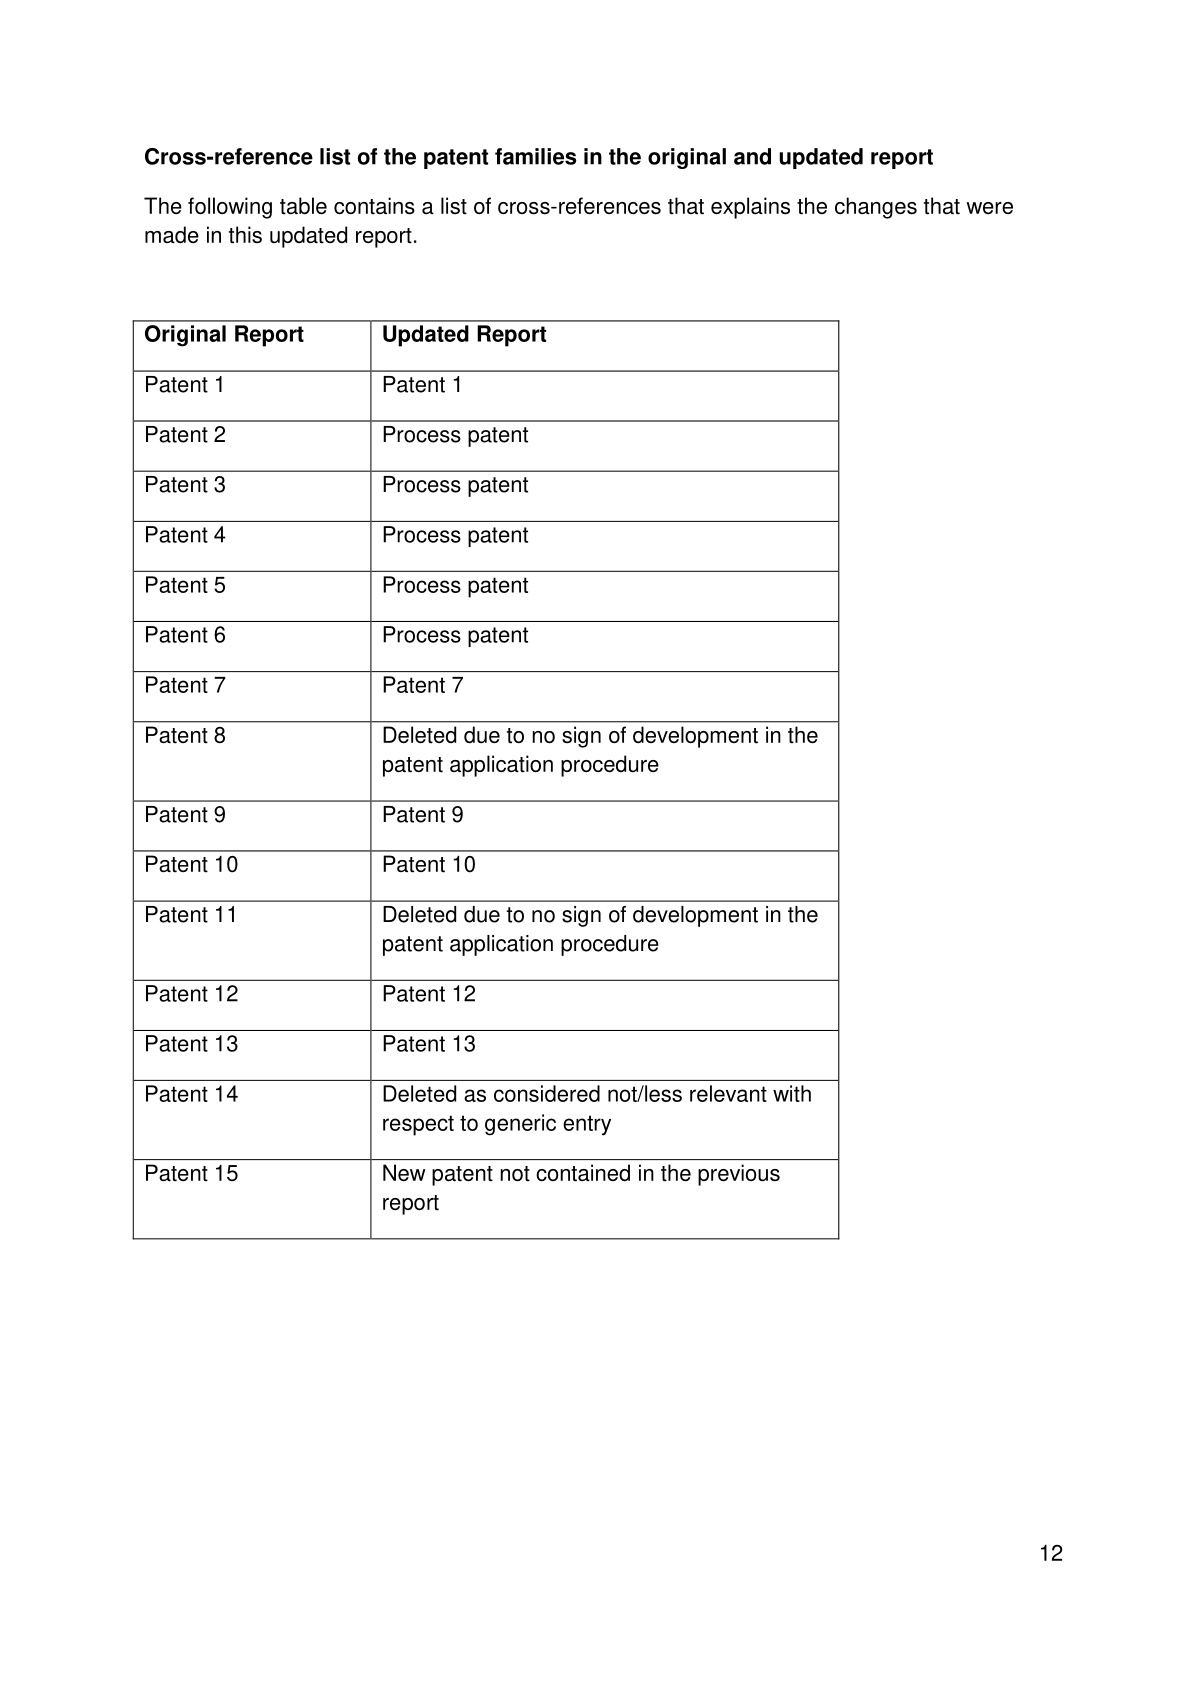full_lined: (130, 318, 840, 1241)
